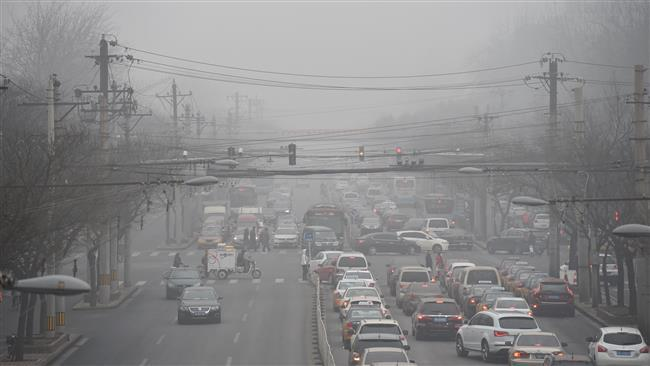bench: (222, 260, 260, 280)
bicycle: (233, 248, 256, 274), (236, 257, 262, 279), (240, 256, 255, 275), (248, 261, 262, 279)
bus: (493, 207, 552, 283), (493, 195, 555, 251), (213, 208, 273, 255), (452, 266, 504, 309), (487, 219, 548, 255), (305, 204, 350, 245), (389, 263, 431, 305), (301, 221, 343, 257), (197, 211, 224, 250), (421, 191, 454, 216), (230, 184, 258, 207)
car: (354, 225, 444, 292), (454, 311, 534, 361), (480, 313, 554, 365), (447, 300, 513, 353), (495, 195, 552, 252), (381, 233, 441, 283), (432, 281, 494, 329), (383, 207, 455, 248), (394, 248, 449, 300), (406, 270, 465, 317), (471, 307, 542, 346), (469, 283, 540, 322), (390, 269, 439, 325), (295, 215, 353, 262), (345, 234, 403, 281), (358, 224, 426, 264), (458, 291, 523, 331), (298, 233, 350, 283), (383, 224, 449, 263), (476, 266, 533, 311), (499, 266, 553, 312), (585, 325, 648, 364), (228, 208, 280, 255), (335, 269, 387, 316), (352, 210, 408, 253), (401, 287, 451, 335), (430, 262, 475, 314), (351, 319, 408, 360), (454, 269, 505, 314), (304, 248, 350, 297), (413, 297, 464, 341), (487, 219, 548, 255), (379, 250, 429, 293), (507, 330, 566, 366), (416, 227, 479, 259), (312, 250, 368, 285), (341, 306, 388, 346), (304, 206, 348, 248), (176, 285, 222, 324), (327, 259, 376, 295), (169, 276, 214, 315), (448, 274, 486, 319), (352, 310, 407, 341), (521, 274, 563, 311), (464, 286, 509, 320), (535, 279, 575, 317), (477, 298, 535, 324), (448, 263, 495, 295), (400, 281, 445, 314), (392, 266, 434, 300), (354, 232, 415, 255), (356, 342, 413, 366), (344, 291, 381, 327), (444, 261, 477, 301), (309, 238, 345, 274), (302, 225, 341, 258), (474, 289, 521, 316), (252, 211, 283, 251), (312, 246, 363, 270), (390, 272, 421, 311), (397, 244, 433, 277), (235, 210, 266, 248), (239, 221, 277, 252), (492, 311, 541, 335), (398, 229, 449, 252), (402, 218, 453, 241), (372, 229, 425, 251), (210, 253, 253, 280), (352, 287, 392, 316), (204, 247, 240, 279), (338, 285, 379, 313), (162, 268, 199, 299), (350, 227, 395, 252), (223, 209, 258, 241), (396, 258, 433, 288), (303, 203, 344, 230), (404, 294, 431, 335), (282, 222, 320, 251), (428, 225, 472, 250), (444, 278, 472, 317), (414, 226, 459, 250), (299, 219, 339, 246), (422, 217, 465, 241), (244, 209, 276, 241), (311, 251, 342, 284), (383, 262, 414, 295), (334, 285, 364, 319), (323, 255, 352, 290), (333, 278, 369, 306), (197, 212, 224, 249), (460, 265, 503, 288), (399, 273, 441, 296), (397, 283, 425, 317), (325, 270, 359, 298), (335, 256, 373, 281), (460, 287, 487, 322), (519, 271, 550, 301), (334, 274, 376, 296), (360, 211, 402, 233), (515, 276, 542, 310), (486, 234, 531, 254), (504, 287, 540, 312), (331, 250, 368, 274), (347, 307, 384, 331), (421, 190, 455, 216), (335, 267, 377, 288), (502, 263, 533, 291), (448, 267, 468, 310), (427, 214, 472, 233), (341, 314, 368, 345), (249, 210, 287, 232), (272, 216, 298, 248), (475, 284, 511, 307), (166, 251, 203, 273), (353, 216, 384, 242), (492, 296, 532, 316), (374, 210, 412, 231), (441, 230, 479, 251), (386, 213, 428, 232), (599, 258, 620, 296), (494, 227, 530, 249), (380, 309, 408, 337), (513, 268, 539, 297), (589, 257, 618, 283), (441, 263, 463, 297), (498, 258, 530, 281), (555, 268, 576, 303), (162, 251, 189, 278), (506, 271, 532, 299), (346, 299, 384, 318), (160, 265, 182, 297), (497, 259, 519, 290), (372, 199, 398, 225), (274, 209, 298, 237), (308, 251, 329, 283), (559, 341, 591, 362), (230, 183, 258, 207), (345, 286, 382, 304), (446, 261, 476, 283), (314, 250, 344, 271), (343, 319, 360, 355), (266, 188, 292, 211), (232, 222, 255, 248), (420, 217, 452, 235), (397, 225, 438, 239), (337, 298, 352, 336), (332, 284, 352, 312), (254, 221, 272, 252), (339, 308, 353, 347), (395, 229, 433, 243), (584, 334, 600, 364), (334, 290, 350, 320), (435, 263, 450, 295), (562, 267, 578, 297), (503, 272, 522, 295), (359, 215, 383, 233), (507, 263, 532, 280), (401, 217, 431, 231), (500, 257, 530, 271), (386, 265, 399, 297), (525, 271, 548, 289), (385, 213, 408, 230), (598, 262, 618, 281), (516, 267, 536, 286), (584, 329, 601, 351), (197, 232, 220, 248), (424, 223, 450, 237), (342, 320, 354, 349), (343, 268, 372, 280), (300, 248, 311, 279), (446, 259, 476, 270), (373, 199, 398, 212), (237, 213, 261, 226), (449, 212, 468, 228), (311, 251, 327, 269), (512, 261, 535, 273), (561, 265, 575, 284), (170, 252, 186, 267), (565, 269, 578, 285)
chair: (348, 322, 410, 365), (358, 343, 413, 365), (302, 204, 344, 229)
fire hydrant: (299, 247, 310, 280), (288, 143, 296, 165)
frisbee: (10, 273, 92, 296), (612, 223, 649, 237), (184, 175, 218, 186)
motorcycle: (215, 254, 257, 280), (370, 205, 404, 231), (231, 248, 257, 277), (399, 291, 422, 316), (236, 257, 262, 279), (239, 248, 254, 272), (248, 261, 262, 279)
parking meter: (300, 248, 311, 279), (288, 143, 296, 165)
person: (321, 197, 399, 352), (412, 239, 450, 279), (235, 222, 256, 262), (373, 200, 399, 229), (226, 250, 254, 276), (250, 219, 271, 251), (430, 244, 448, 280), (232, 235, 250, 270), (424, 246, 441, 281), (561, 268, 577, 300), (240, 245, 257, 274), (299, 247, 311, 280), (236, 247, 251, 272), (560, 264, 575, 288), (257, 225, 270, 252), (262, 225, 275, 252), (423, 251, 434, 280), (432, 244, 444, 270), (435, 249, 447, 274), (234, 244, 246, 269), (433, 256, 445, 281), (254, 226, 265, 252), (171, 252, 186, 267), (249, 226, 258, 251), (560, 261, 569, 281), (288, 143, 296, 165)
traffic light: (558, 221, 569, 243), (288, 143, 296, 165), (611, 208, 622, 224), (357, 144, 365, 161)
truck: (454, 310, 542, 362), (498, 195, 554, 253), (361, 232, 423, 283), (391, 232, 445, 283), (461, 292, 531, 330), (350, 320, 409, 364), (467, 276, 530, 314), (410, 296, 461, 340), (450, 265, 503, 307), (503, 327, 560, 366), (487, 219, 548, 255), (379, 250, 429, 293), (352, 214, 415, 247), (343, 308, 391, 350), (312, 250, 369, 285), (414, 188, 456, 232), (305, 204, 350, 245), (304, 234, 351, 273), (412, 215, 469, 247), (457, 279, 498, 319), (464, 288, 513, 320), (535, 278, 575, 317), (203, 249, 251, 281), (445, 262, 479, 307), (519, 271, 558, 310), (301, 221, 343, 257), (392, 266, 434, 302), (399, 280, 443, 314), (352, 230, 414, 254), (397, 229, 450, 252), (335, 283, 377, 312), (330, 265, 378, 290), (235, 210, 266, 248), (482, 293, 529, 318), (402, 218, 453, 241), (450, 264, 493, 291), (467, 280, 508, 308), (309, 248, 341, 283), (163, 269, 200, 299), (282, 222, 320, 251), (512, 269, 545, 302), (196, 212, 224, 250), (486, 233, 535, 254), (334, 274, 376, 296), (500, 262, 531, 291), (207, 247, 238, 275), (272, 216, 299, 248), (420, 192, 455, 216), (377, 210, 415, 231), (444, 261, 476, 284), (523, 272, 549, 298), (420, 217, 452, 235)
tv: (422, 192, 455, 216)
umbrella: (9, 273, 91, 295), (230, 184, 258, 207), (611, 223, 649, 238), (184, 175, 218, 186), (237, 213, 261, 226)
